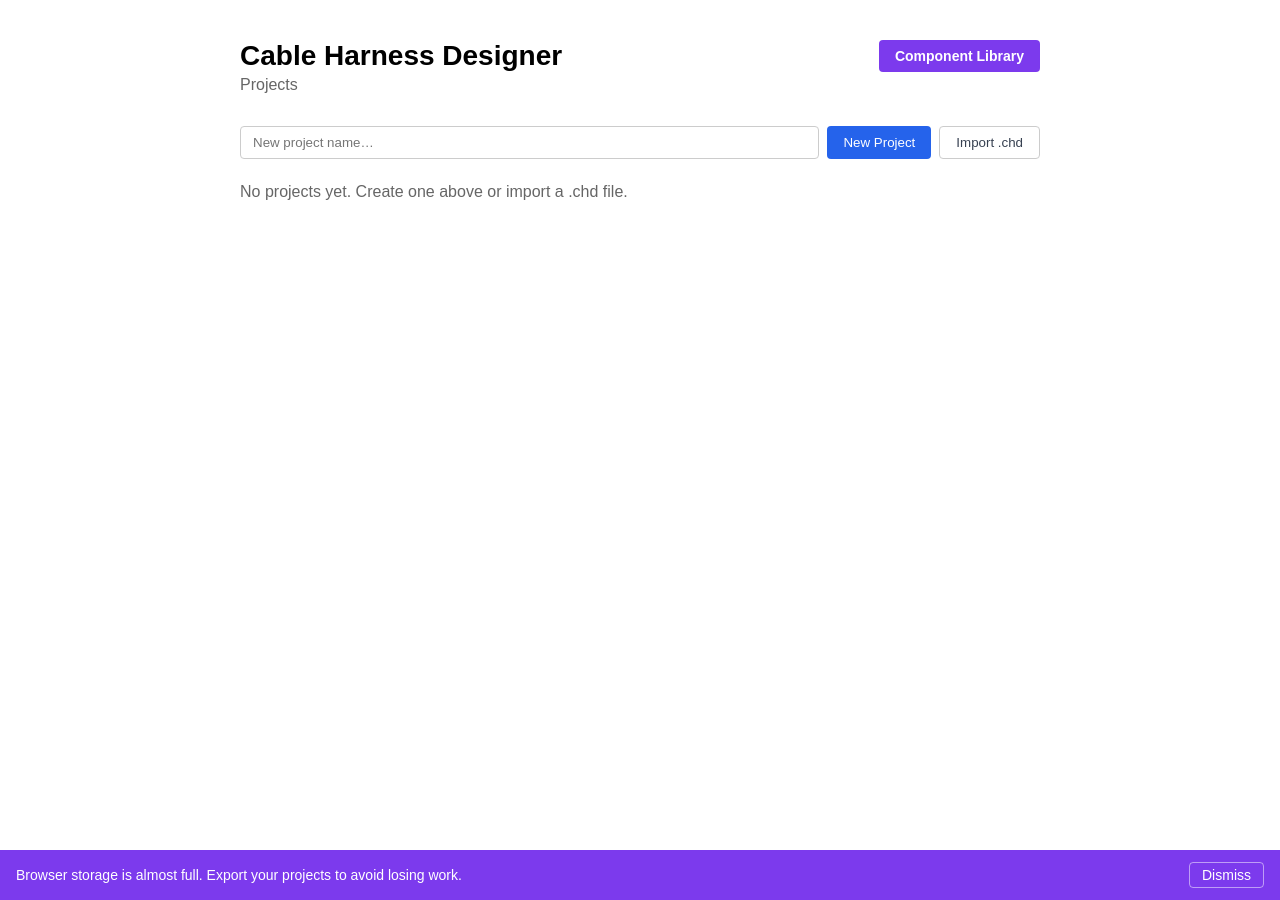
Test case: ProjectListScreen › dismisses the storage warning banner
The image size is (1280, 900).
Expected: the text "No projects yet. Create one above or import a .chd file." is shown, [240,183,628,200]
Expected: the message is shown, [0,850,1279,899]
Click the button "Dismiss" at (1226, 875), box [1189,862,1264,888]
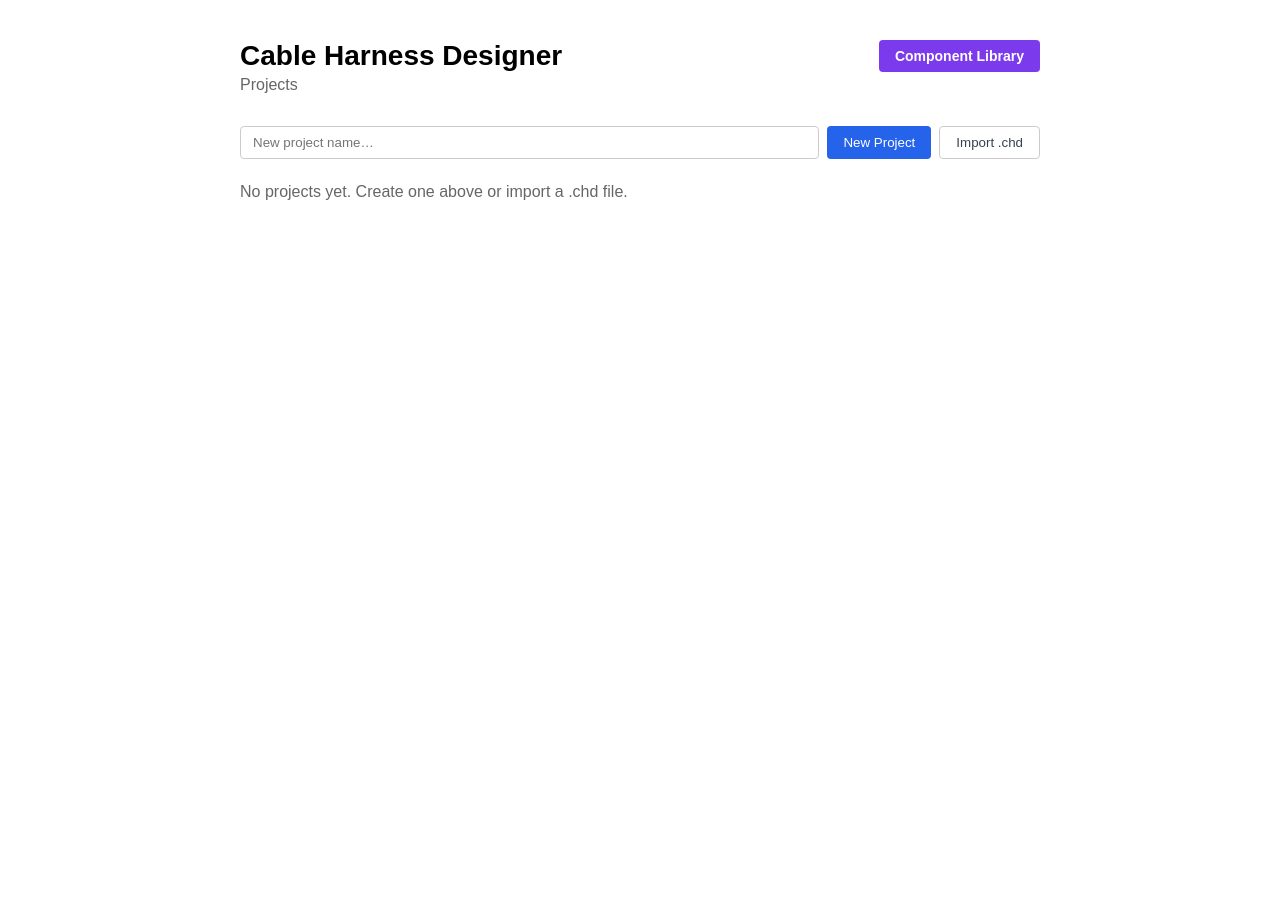
Expected: the message is gone
